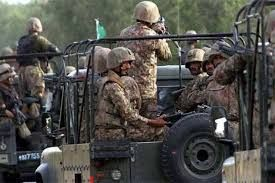uniform: (176, 47, 236, 151), (117, 10, 163, 124), (100, 47, 142, 147), (16, 18, 48, 132), (208, 34, 243, 138), (1, 78, 28, 141)
